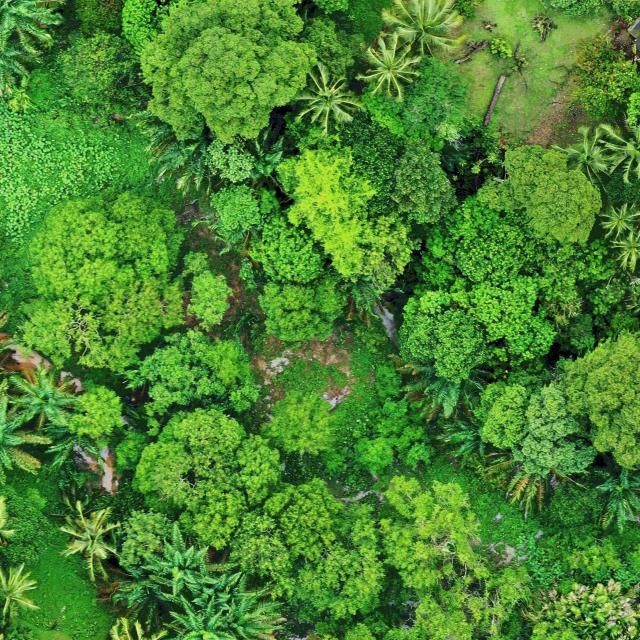Tree: (396, 177, 624, 385), (13, 185, 236, 373), (378, 472, 533, 640), (139, 0, 320, 141), (132, 403, 287, 551), (229, 474, 382, 618), (275, 146, 410, 296), (475, 143, 603, 247), (121, 326, 262, 417), (476, 376, 602, 477), (559, 326, 640, 469), (140, 522, 240, 596), (480, 451, 587, 519), (568, 30, 640, 129), (388, 353, 488, 422), (258, 275, 349, 343), (246, 216, 331, 286), (292, 63, 364, 134), (380, 0, 465, 60), (0, 392, 53, 486), (60, 500, 119, 584), (215, 572, 287, 640), (356, 32, 424, 104), (9, 364, 80, 430), (550, 123, 620, 188), (159, 592, 240, 640), (0, 0, 67, 56), (589, 462, 640, 535), (599, 115, 640, 186), (438, 415, 487, 465), (600, 200, 640, 239), (610, 228, 640, 268)
